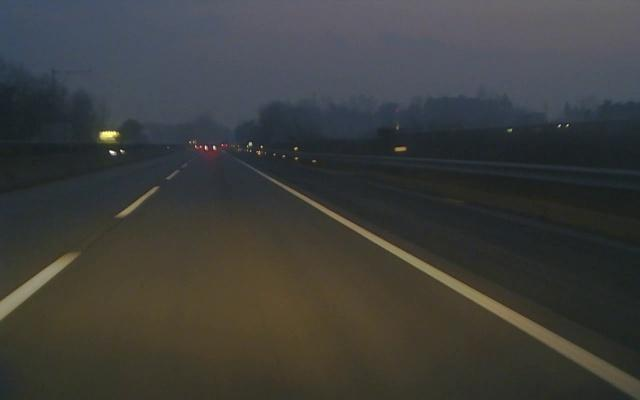lane: (248, 166, 640, 400), (0, 170, 180, 323)
